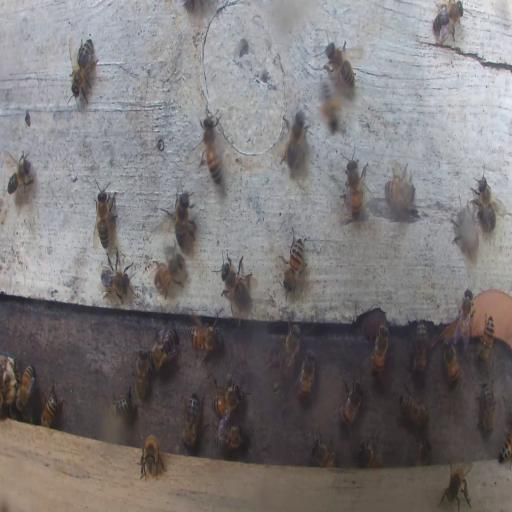nonpollenbee: (469, 167, 501, 232), (218, 252, 252, 310), (200, 111, 224, 189), (98, 256, 136, 304), (439, 460, 474, 512), (70, 34, 96, 102), (283, 110, 310, 171), (155, 247, 186, 298), (344, 150, 367, 218), (95, 180, 117, 251), (281, 231, 305, 296), (336, 376, 364, 430), (169, 190, 196, 246), (188, 317, 221, 361), (386, 165, 415, 213), (325, 40, 355, 86), (432, 2, 464, 44), (6, 152, 33, 200), (150, 325, 178, 367), (400, 388, 429, 428), (456, 207, 480, 255), (214, 418, 245, 454), (139, 434, 164, 478), (212, 382, 244, 416), (477, 382, 496, 437), (296, 350, 316, 400), (181, 394, 199, 449), (40, 382, 60, 429), (134, 348, 151, 402), (280, 326, 300, 371), (371, 324, 388, 376), (16, 364, 34, 413), (476, 316, 494, 362), (442, 340, 460, 385), (414, 320, 428, 375), (111, 382, 133, 417), (458, 290, 473, 340), (311, 436, 336, 466), (2, 358, 15, 415), (498, 421, 512, 467), (358, 442, 382, 468), (414, 436, 432, 464)
pollenbee: (317, 84, 343, 135)
